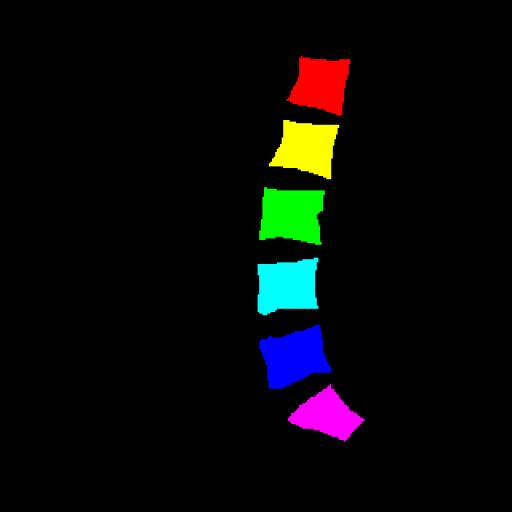L1: (287, 57, 350, 115)
L2: (269, 120, 339, 179)
L3: (259, 187, 325, 245)
L4: (258, 258, 318, 315)
L5: (259, 325, 331, 389)
S1: (288, 385, 364, 440)
